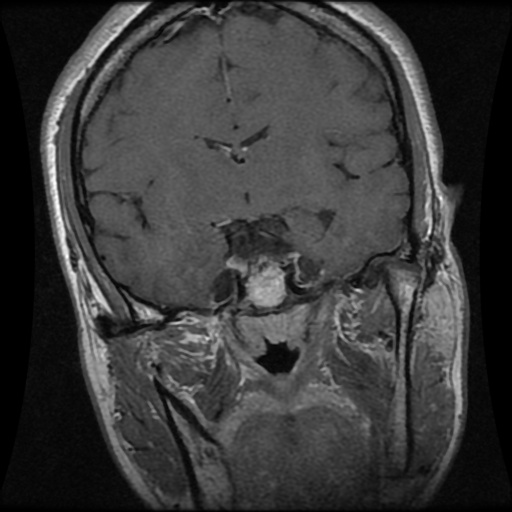pituitary: (243, 255, 286, 309)
